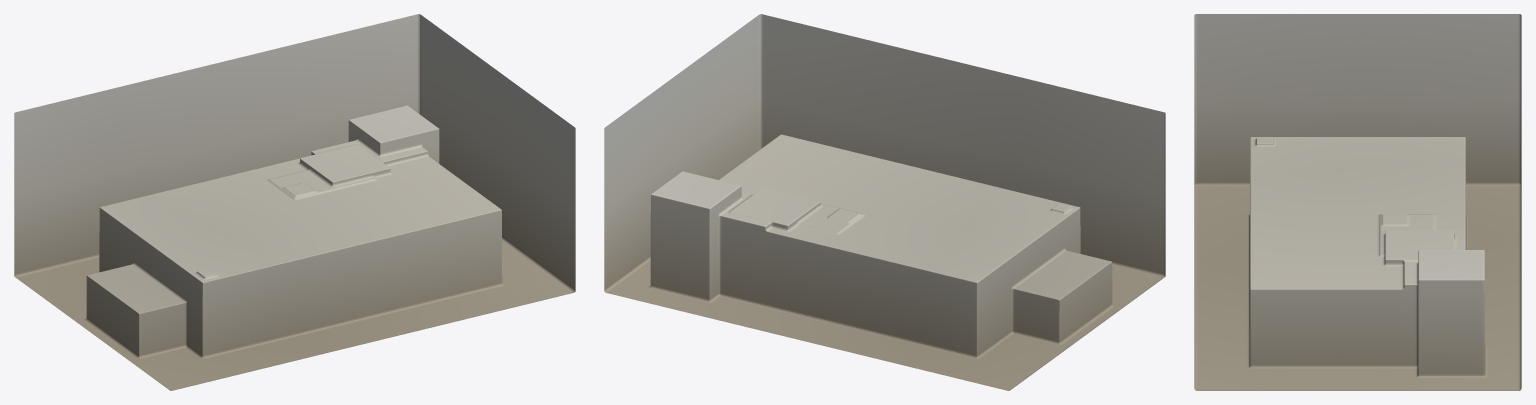
The model's file is pennywort_mill.glb.
3 views of the same model, side by side, from view 1: azimuth 30°, elevation 25°; view 2: azimuth 150°, elevation 25°; view 3: azimuth 270°, elevation 25° (orthographic). The views are drawn at different scales.
Parts seen in each view (by area): view 1: shell_cellar, shell_sluice, shell_gear_pit, shell_cut, shell_crawl, shell_drain, shell_wheelhouse; view 2: shell_crawl, shell_cellar, shell_gear_pit, shell_cut, shell_sluice, shell_wheelhouse, shell_drain; view 3: shell_wheelhouse, shell_crawl, shell_cellar, shell_gear_pit, shell_cut, shell_drain, shell_sluice.
Boxes of the visible parts, x1,y1,x2,y2 form: shell_cellar: (287, 14, 575, 284); shell_sluice: (15, 80, 277, 286); shell_gear_pit: (224, 46, 575, 311); shell_cut: (168, 61, 496, 328); shell_crawl: (140, 247, 382, 390); shell_drain: (147, 75, 424, 339); shell_wheelhouse: (14, 113, 220, 369); shell_crawl: (939, 57, 1165, 299); shell_cellar: (604, 14, 779, 317); shell_gear_pit: (708, 18, 860, 334); shell_cut: (777, 38, 940, 343); shell_sluice: (868, 197, 1003, 386); shell_wheelhouse: (990, 217, 1133, 390); shell_drain: (815, 102, 970, 356); shell_wheelhouse: (1275, 14, 1521, 207); shell_crawl: (1194, 14, 1320, 293); shell_cellar: (1221, 250, 1521, 390); shell_gear_pit: (1194, 228, 1521, 390); shell_cut: (1194, 202, 1521, 351); shell_drain: (1194, 178, 1521, 315); shell_sluice: (1287, 137, 1521, 258).
Bounding box in the file's own units: 131 × 50.51 × 87.37.
